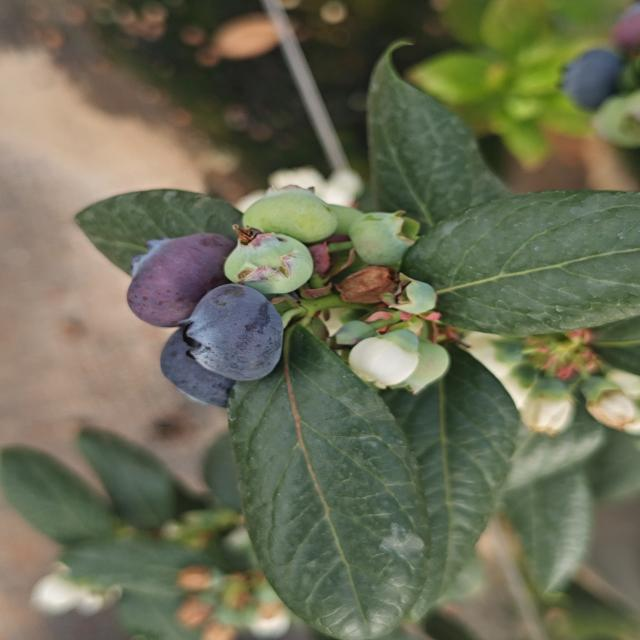ripe: (181, 280, 296, 385), (124, 231, 235, 329), (154, 322, 246, 410), (545, 40, 640, 111)
